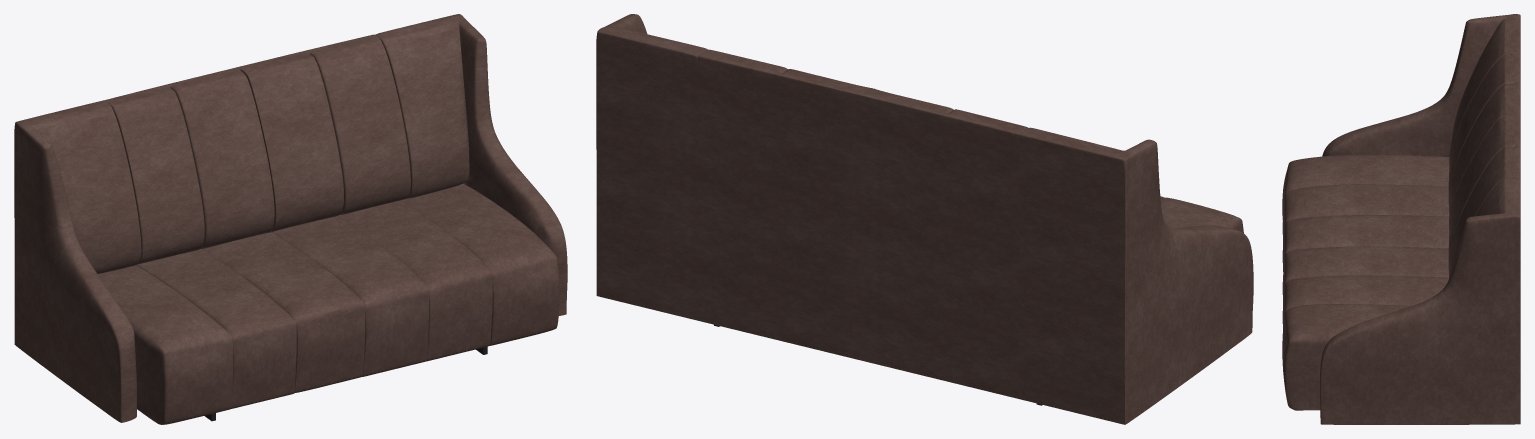
File: fluid.gltf
3 views of the same model, side by side, from view 1: azimuth 30°, elevation 25°; view 2: azimuth 150°, elevation 25°; view 3: azimuth 270°, elevation 25° (orthographic). The views are drawn at different scales.
Visible parts, largest first — view 1: fluid; view 2: fluid; view 3: fluid.
Boxes of the visible parts, <box> form: fluid: <box>14,14,567,424</box>; fluid: <box>596,14,1253,424</box>; fluid: <box>1282,14,1520,424</box>.
Bounding box in the file's own units: 1.94 × 0.9769 × 0.9558.
Materials: 1 (1 with a texture image).
